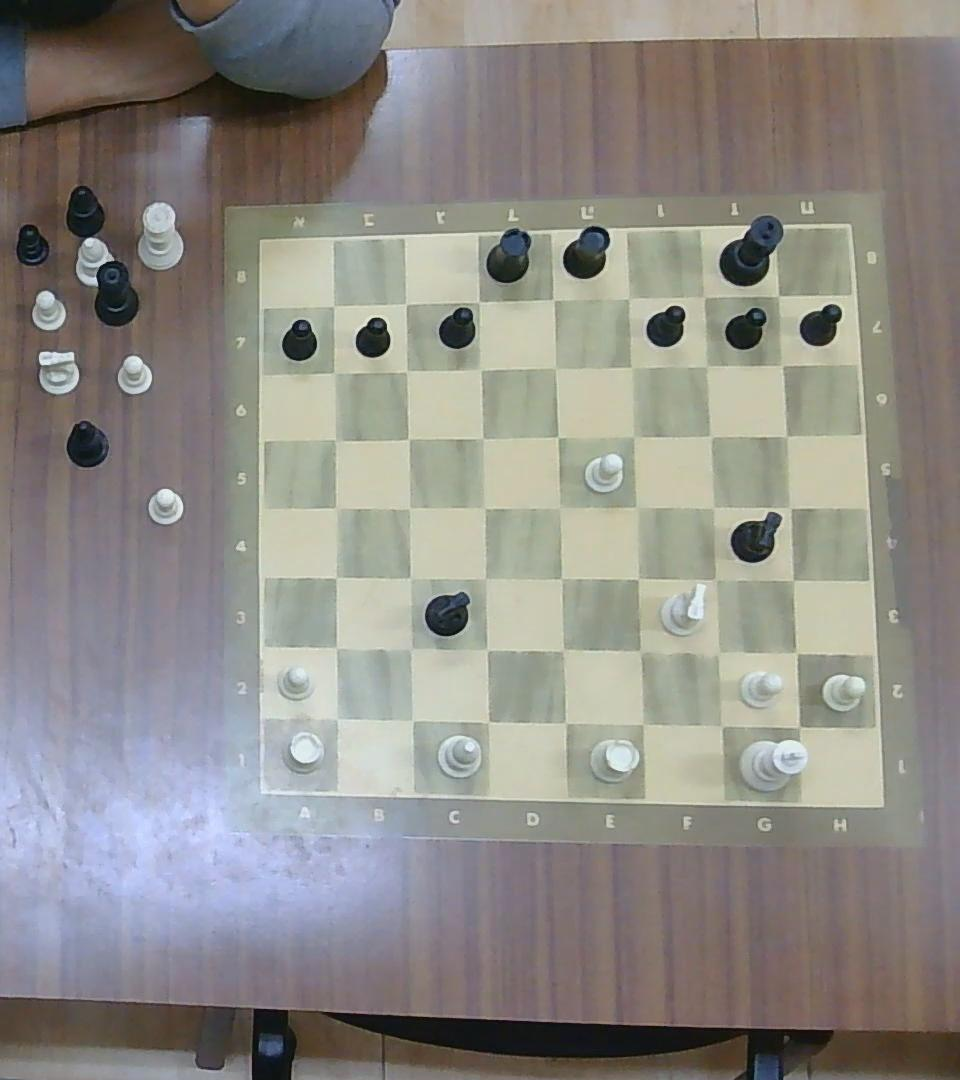xcorner: (781, 708, 815, 742), (703, 707, 738, 740), (624, 707, 659, 740), (548, 705, 580, 739), (701, 637, 735, 669), (470, 633, 502, 665), (625, 635, 656, 667), (547, 633, 578, 665), (396, 703, 428, 734), (471, 704, 502, 736), (780, 637, 812, 668), (320, 701, 351, 732), (394, 632, 425, 663), (470, 563, 501, 594), (622, 563, 652, 594), (547, 563, 577, 594), (700, 563, 730, 594), (622, 491, 652, 521), (698, 491, 728, 520), (545, 493, 574, 522), (321, 562, 350, 591), (321, 633, 350, 662), (395, 562, 424, 591), (538, 284, 567, 313), (470, 492, 499, 520), (777, 566, 806, 594), (467, 422, 495, 451), (543, 421, 572, 449), (775, 492, 804, 520), (619, 421, 648, 449), (616, 352, 645, 380), (393, 425, 422, 452), (395, 494, 423, 521), (322, 494, 350, 521), (693, 352, 721, 379), (696, 422, 723, 448), (542, 353, 569, 379), (393, 356, 419, 382), (772, 423, 800, 447), (322, 426, 348, 451), (467, 355, 493, 380), (322, 360, 348, 385), (616, 284, 641, 309), (393, 291, 418, 315), (466, 288, 491, 312), (691, 285, 716, 308), (770, 352, 793, 376), (322, 294, 345, 316), (767, 284, 790, 306)
